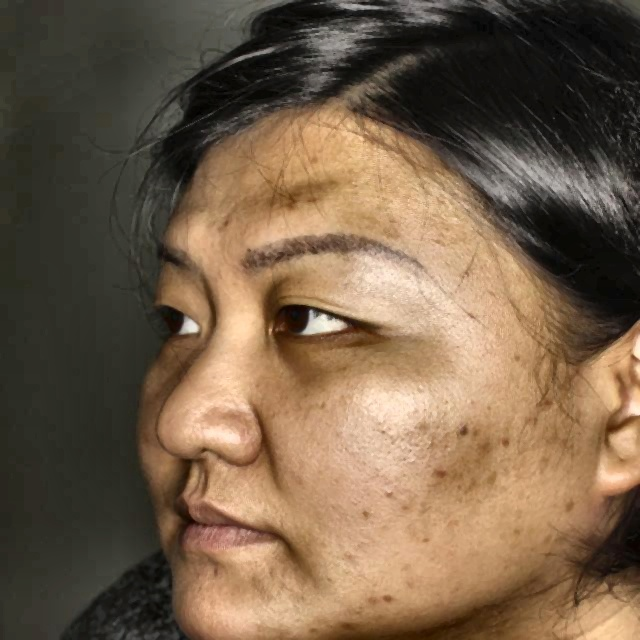comedone: (363, 587, 394, 614)
